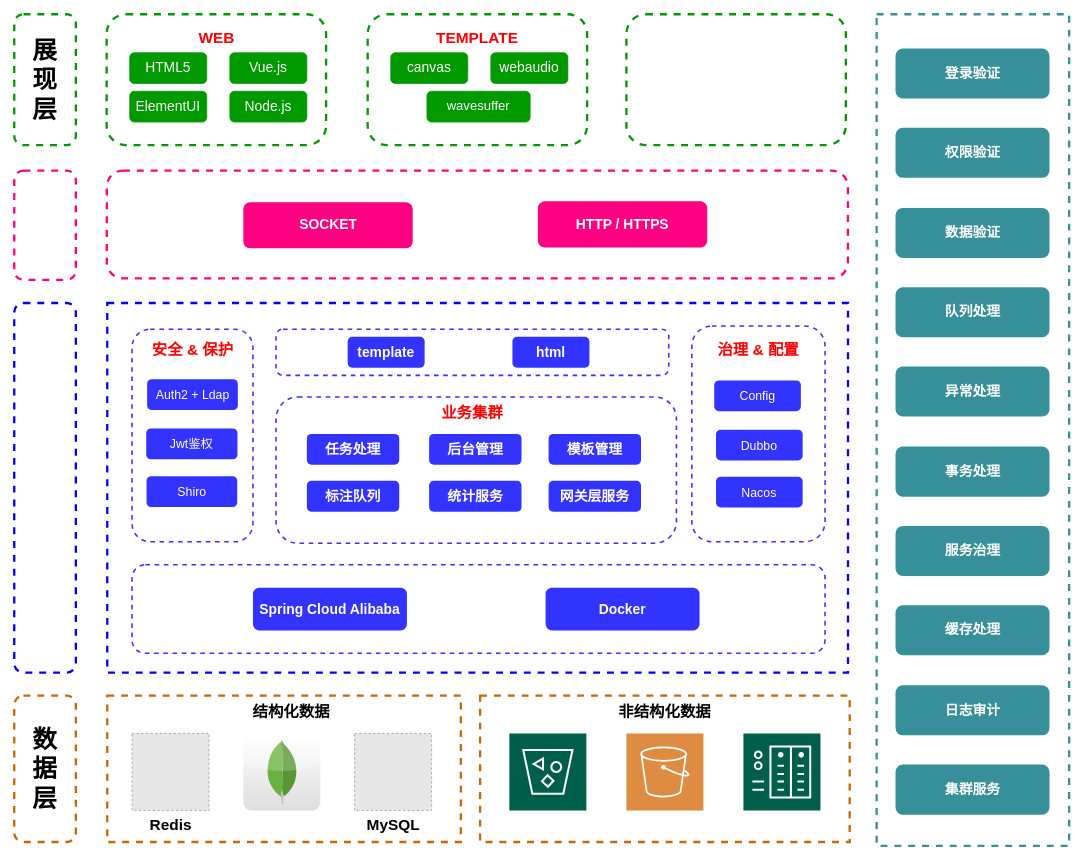
The diagram is 1083 pixels wide and 860 high, and some of its shapes have lost their labels. Grey dashed boxes stand in for pictures. The box of each missing label's shape, as (x1, y1, x2, y2) in pixels:
MongoDB: (243, 733, 320, 810)
NAS: (743, 733, 820, 810)
OSS: (626, 733, 703, 810)
Restful API: (625, 13, 847, 146)
S3 / Ceph: (509, 733, 586, 810)
服 务 层: (13, 301, 77, 673)
通 讯 层: (13, 169, 77, 281)
